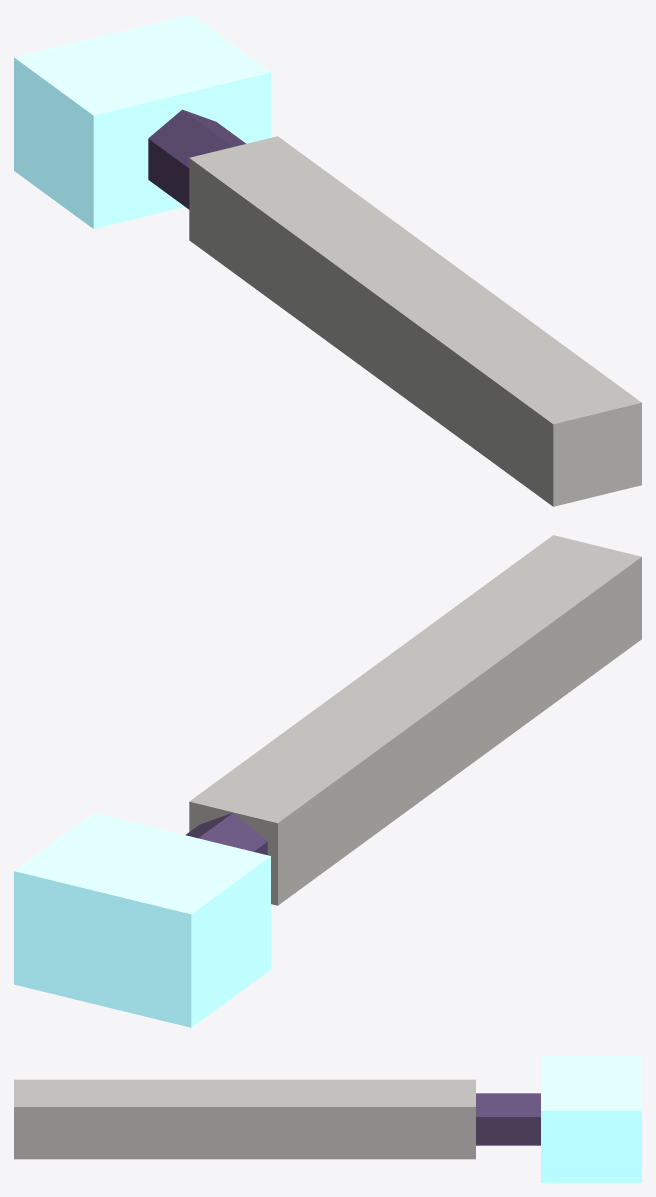
The model's file is tool_brush.glb.
The picture shows the model from 3 angles, top to bottom: view 1: azimuth 30°, elevation 25°; view 2: azimuth 150°, elevation 25°; view 3: azimuth 270°, elevation 25°; orthographic projection. The views are drawn at different scales.
Visible parts, largest first — view 1: handle, head, neck; view 2: handle, head, neck; view 3: handle, head, neck.
Part boxes in pixels (x1=…): handle: x1=189, y1=136, x2=641, y2=506; head: x1=14, y1=14, x2=270, y2=228; neck: x1=148, y1=109, x2=246, y2=209; handle: x1=189, y1=535, x2=641, y2=905; head: x1=14, y1=813, x2=270, y2=1027; neck: x1=185, y1=812, x2=267, y2=855; handle: x1=14, y1=1079, x2=475, y2=1159; head: x1=541, y1=1056, x2=641, y2=1182; neck: x1=476, y1=1093, x2=540, y2=1145.
Size of the model in its own units: 0.09 by 0.055 by 0.435.
